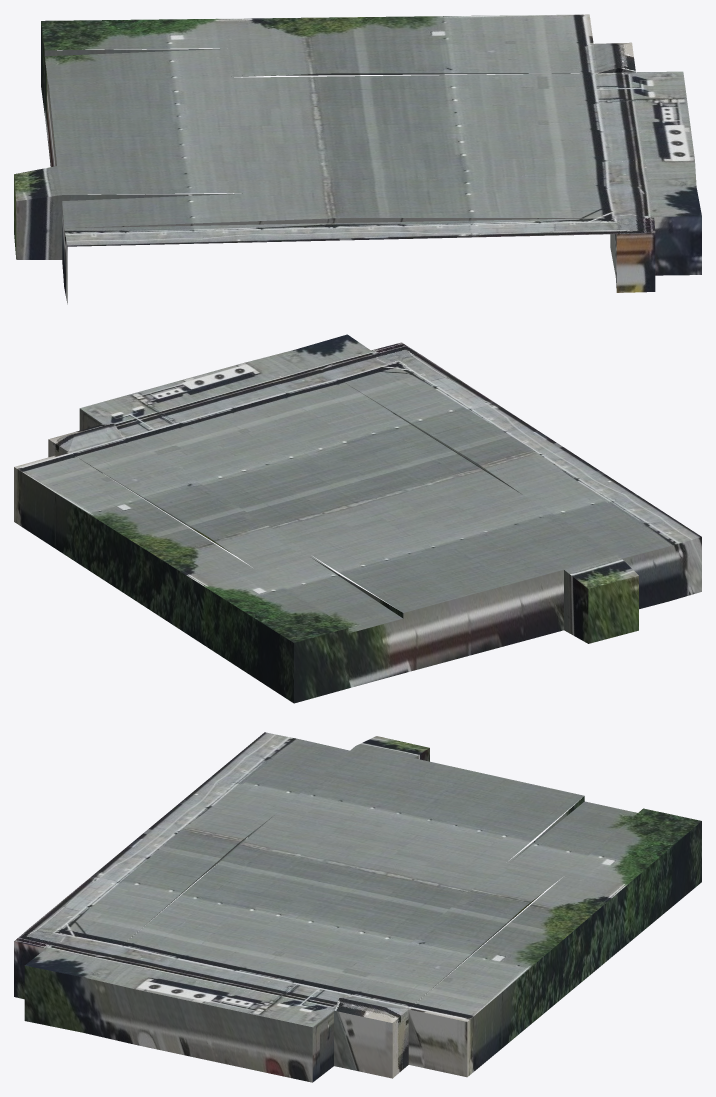
3 renders of one model, top to bottom at view 1: azimuth 30°, elevation 25°; view 2: azimuth 150°, elevation 25°; view 3: azimuth 270°, elevation 25°, orthographic. The views are drawn at different scales.
Size of the model in its own units: 65.44 by 6.32 by 64.5.
Materials: 52 (51 with a texture image).
